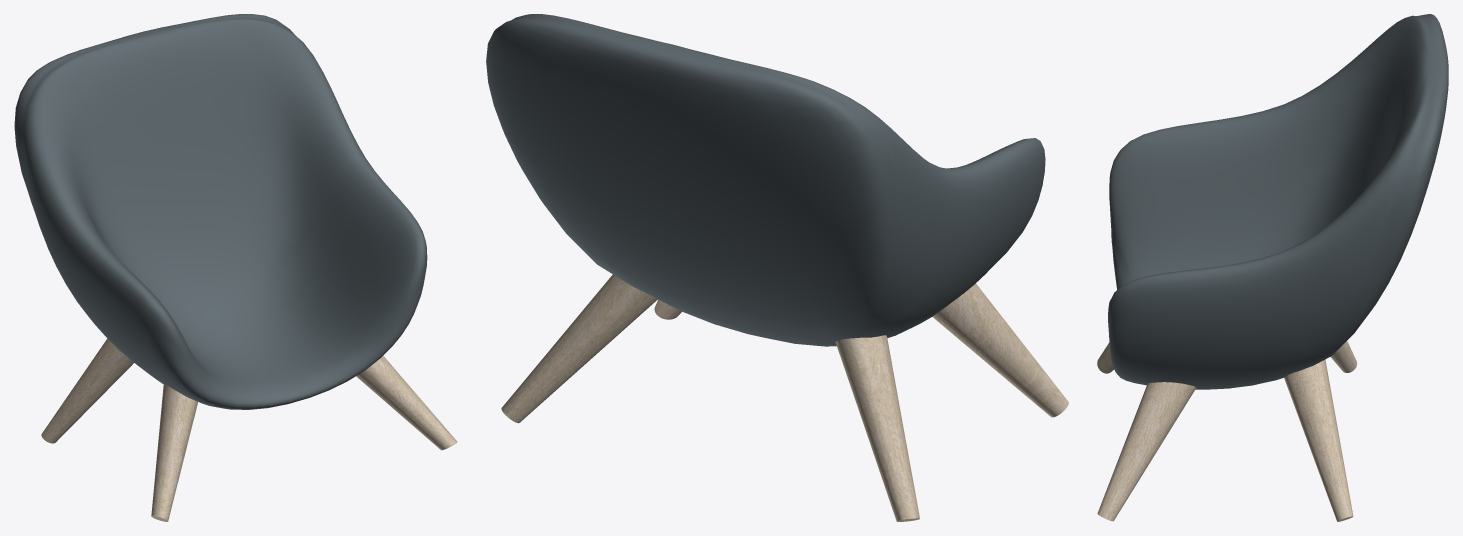
File: Chair.fbx
The picture shows the model from 3 angles, left to right: view 1: azimuth 30°, elevation 25°; view 2: azimuth 150°, elevation 25°; view 3: azimuth 270°, elevation 25°; orthographic projection. The views are drawn at different scales.
Parts seen in each view (by area): view 1: Group1, Chair1, Group2; view 2: Group1, Chair1, Group2; view 3: Group1, Chair1, Group2.
Boxes of the visible parts, bbox=[...] form: Group1: bbox=[14, 14, 427, 409]; Chair1: bbox=[151, 355, 457, 521]; Group2: bbox=[41, 339, 133, 443]; Group1: bbox=[486, 14, 1045, 346]; Chair1: bbox=[501, 274, 1068, 423]; Group2: bbox=[835, 335, 919, 521]; Group1: bbox=[1108, 14, 1448, 389]; Chair1: bbox=[1097, 342, 1353, 521]; Group2: bbox=[1330, 341, 1357, 372].
Size of the model in its own units: 33.46 by 35.26 by 29.54.
